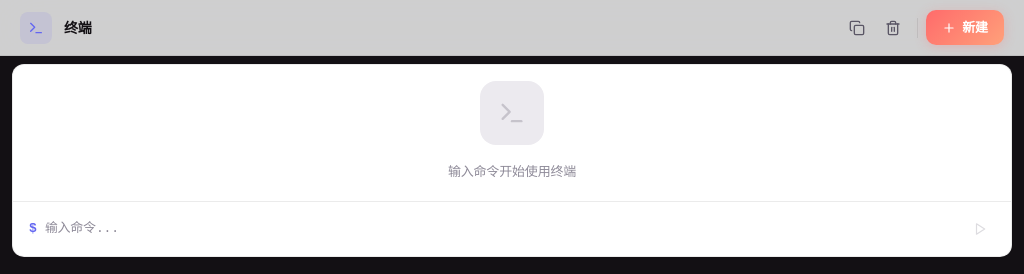
Test: TerminalPage › renders stderr output when the command reports an error exit code
This screenshot has width=1024, height=274.
Type "rm /" into the field with placeholder "输入命令..." at (501, 229), box [45, 219, 957, 239]
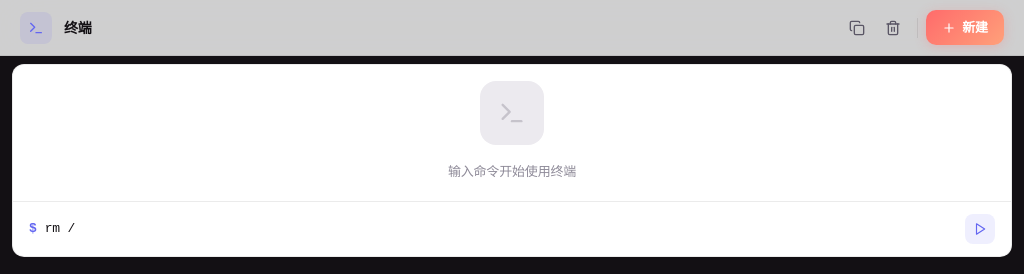
Click the button titled "执行" at (980, 229), box [965, 214, 995, 244]
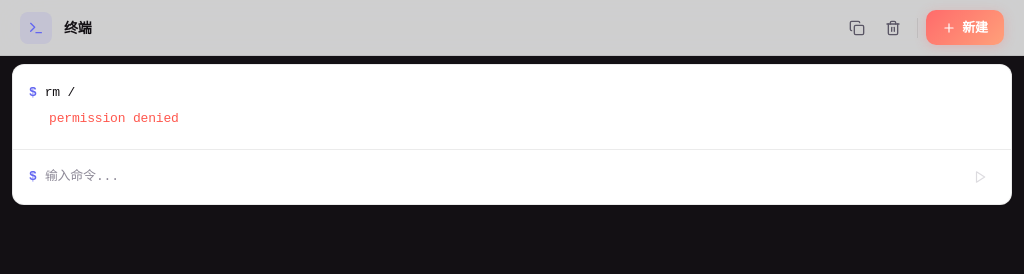
expect the text "permission denied" is shown: met, box [29, 111, 179, 126]
